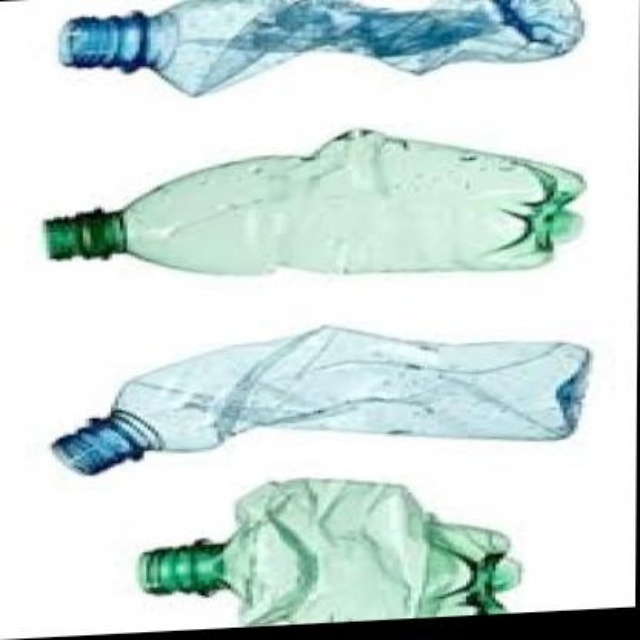trash: (52, 326, 589, 472), (45, 129, 583, 272), (138, 478, 518, 623), (60, 0, 583, 94)
